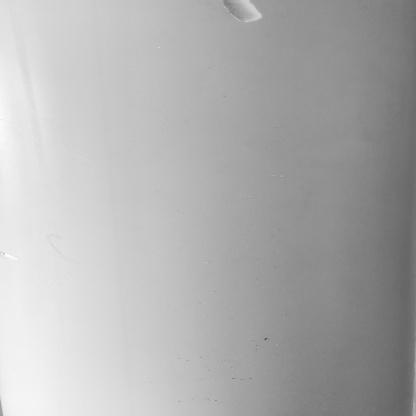sunshang: (216, 1, 279, 30)
